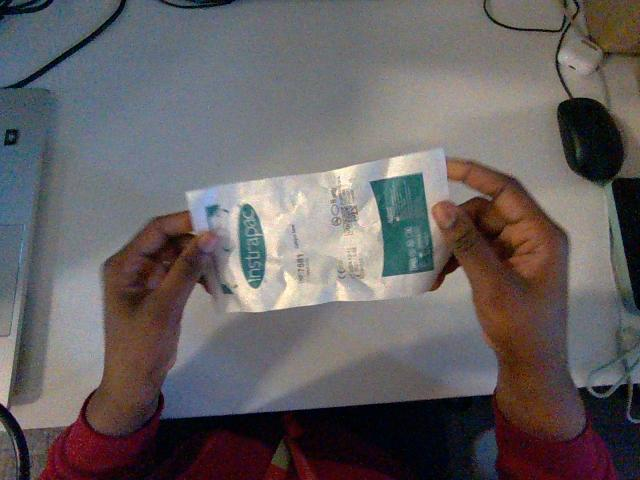gallipot: (187, 149, 448, 311)
